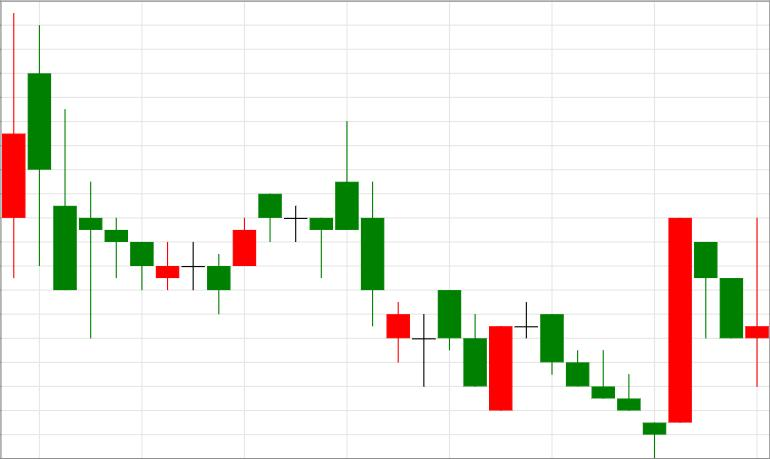morning_star_rise: (259, 122, 461, 388)
